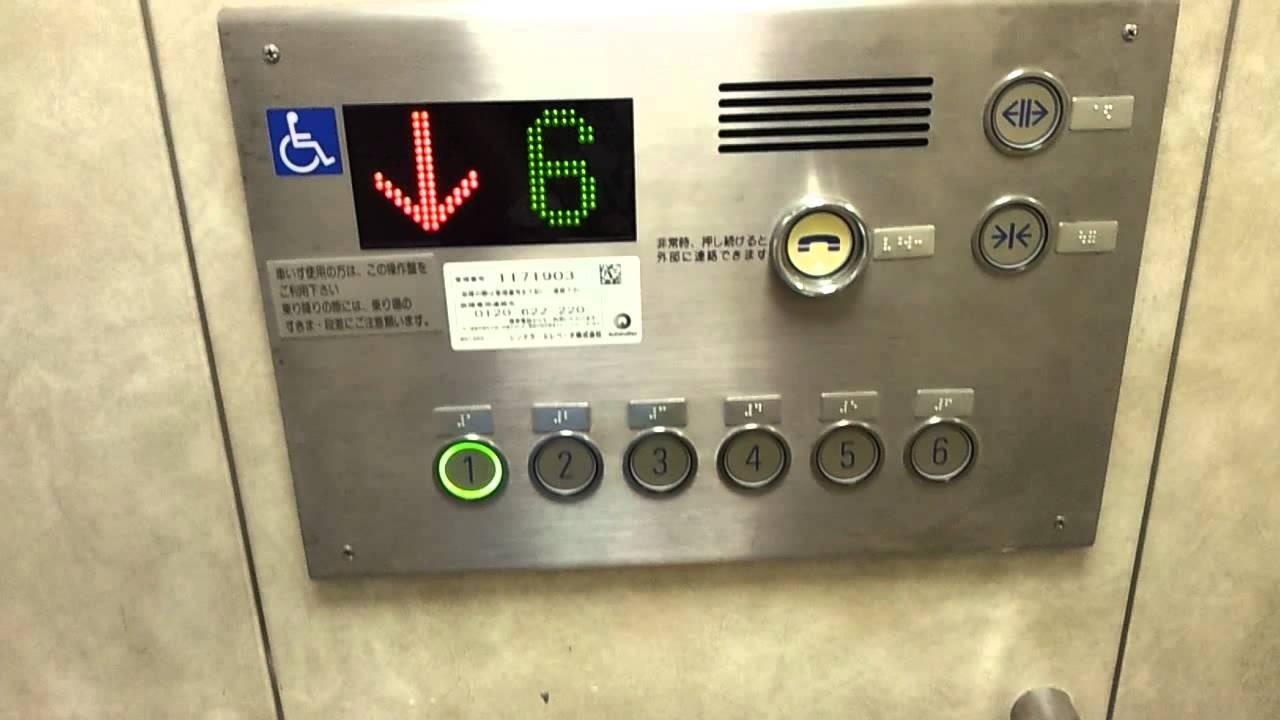1: (429, 431, 514, 506)
2: (524, 430, 608, 508)
3: (619, 426, 701, 501)
4: (711, 424, 793, 497)
5: (807, 419, 888, 492)
6: (901, 414, 980, 486)
CH: (262, 105, 345, 183)
call: (769, 196, 875, 300)
close: (966, 191, 1054, 279)
led: (337, 95, 643, 257)
open: (977, 65, 1072, 162)
